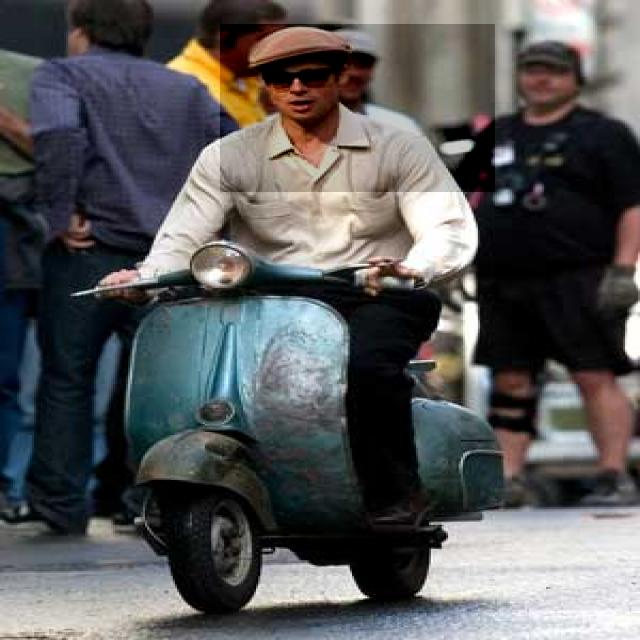No_Helmet: (220, 24, 495, 192)
